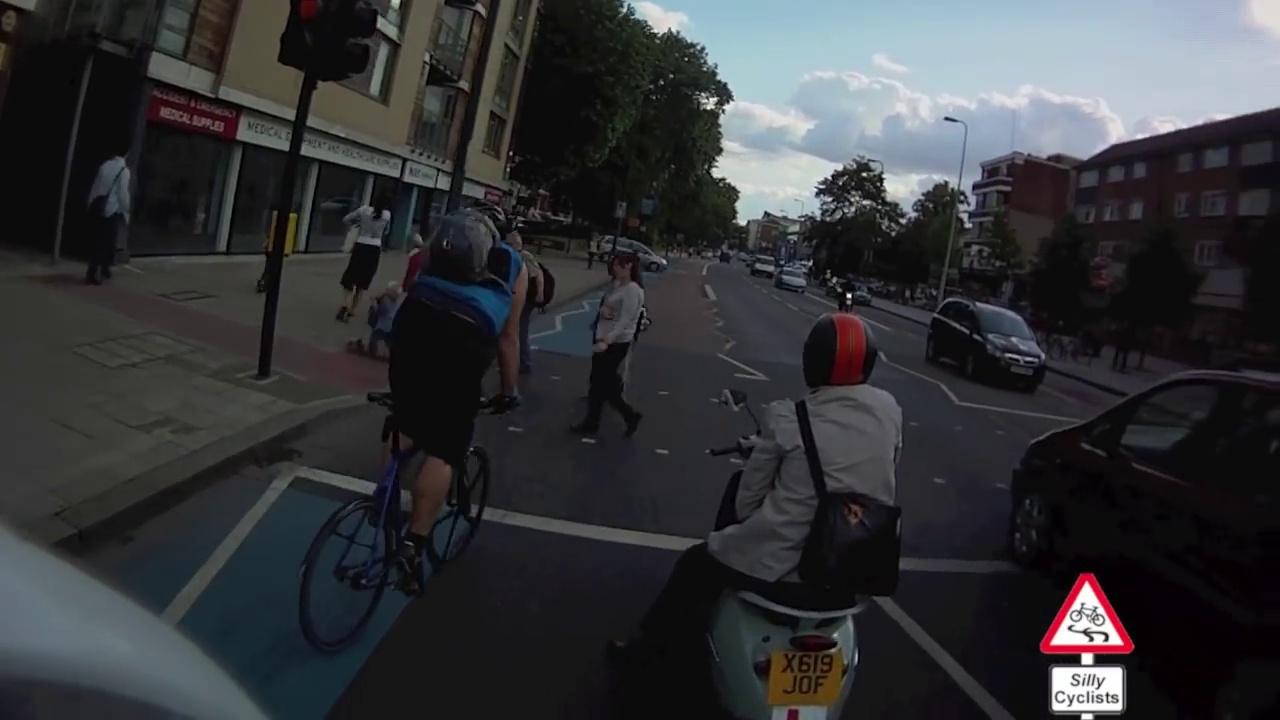cyclist_back: (290, 187, 495, 650), (697, 281, 891, 709)
